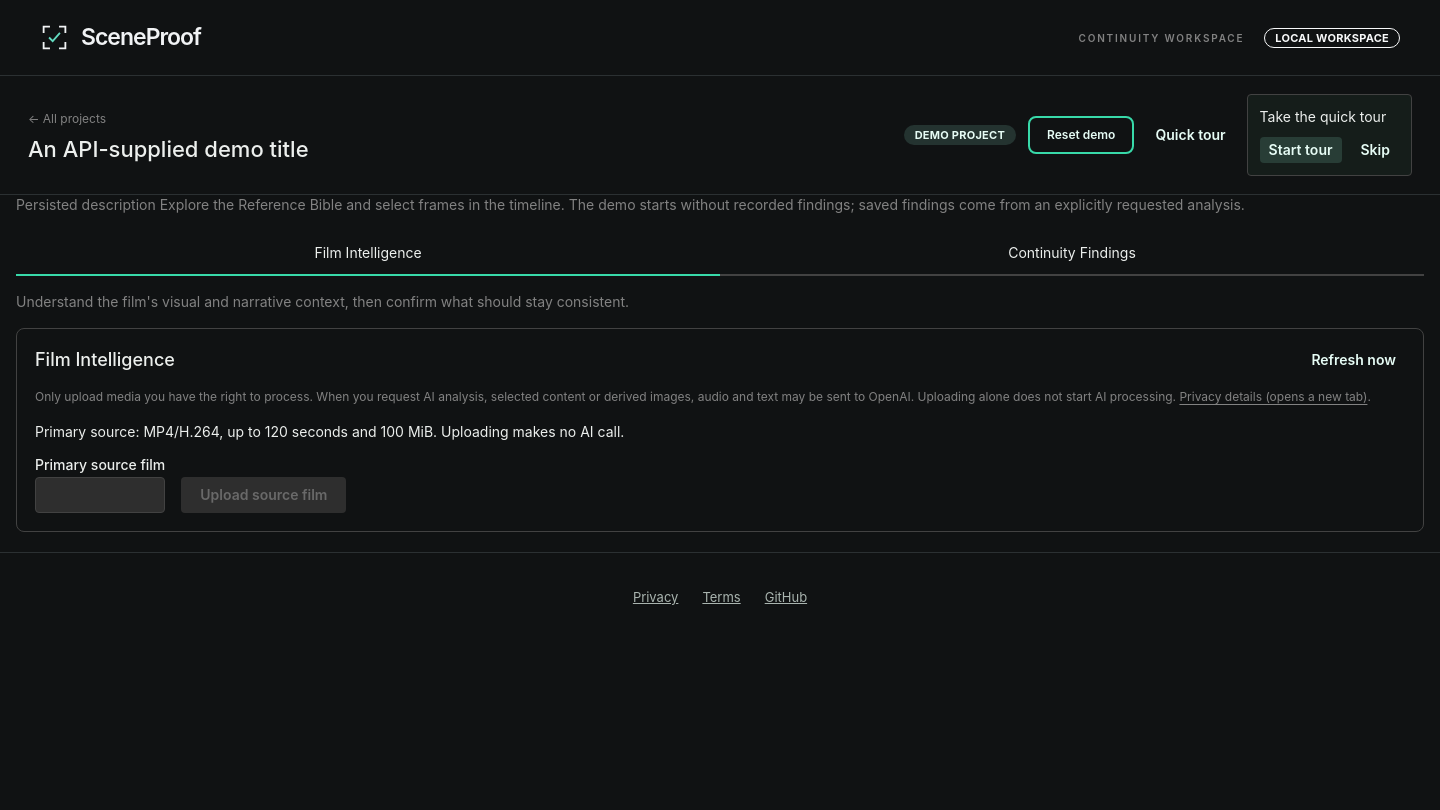
Test: reset requires explicit confirmation and cancel restores keyboard focus
The image size is (1440, 810).
Press Enter
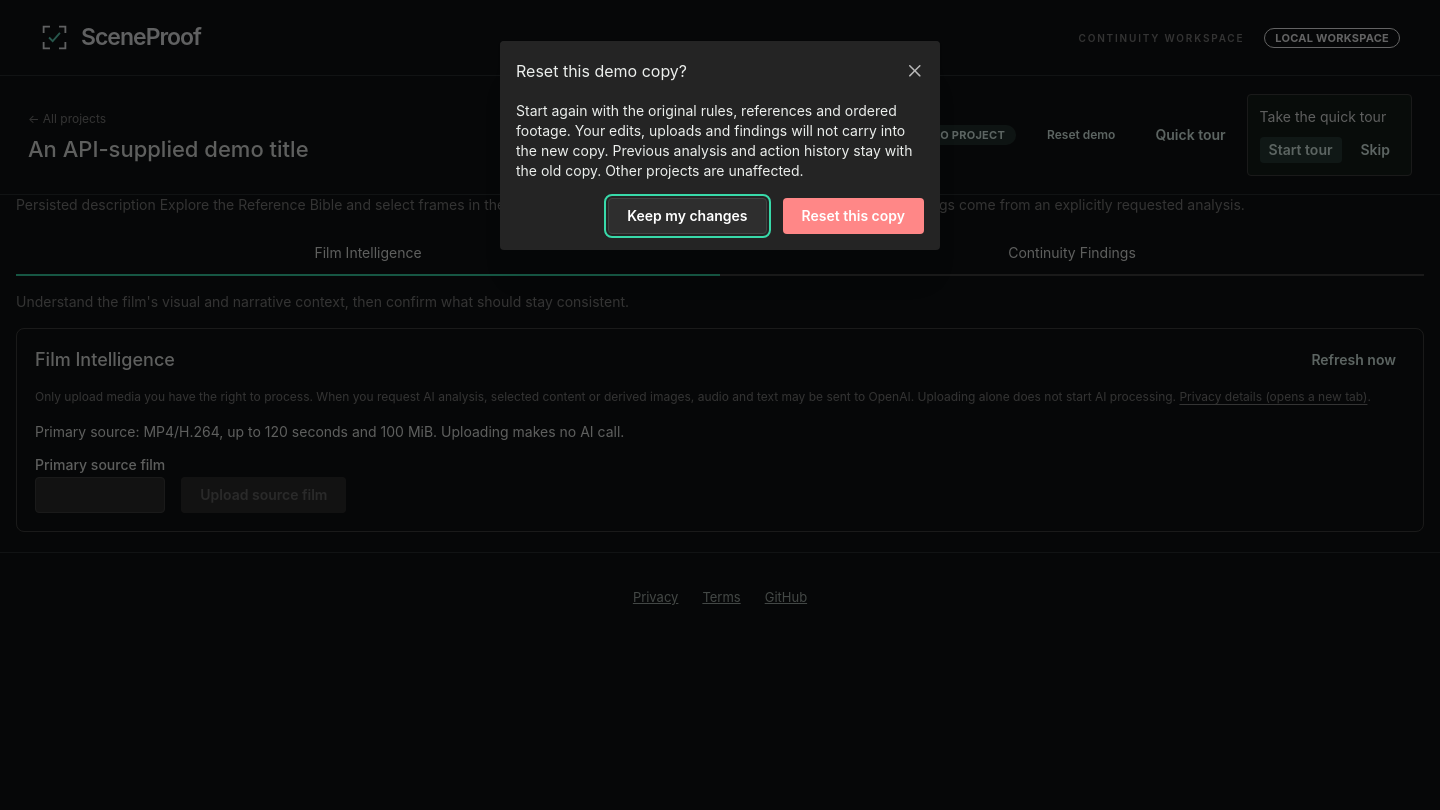
Expected: the dialog shows "Previous analysis and action history stay with the old copy", 516,102 -> 912,179
Click the button "Keep my changes": [687, 216] box 608,198 -> 766,234
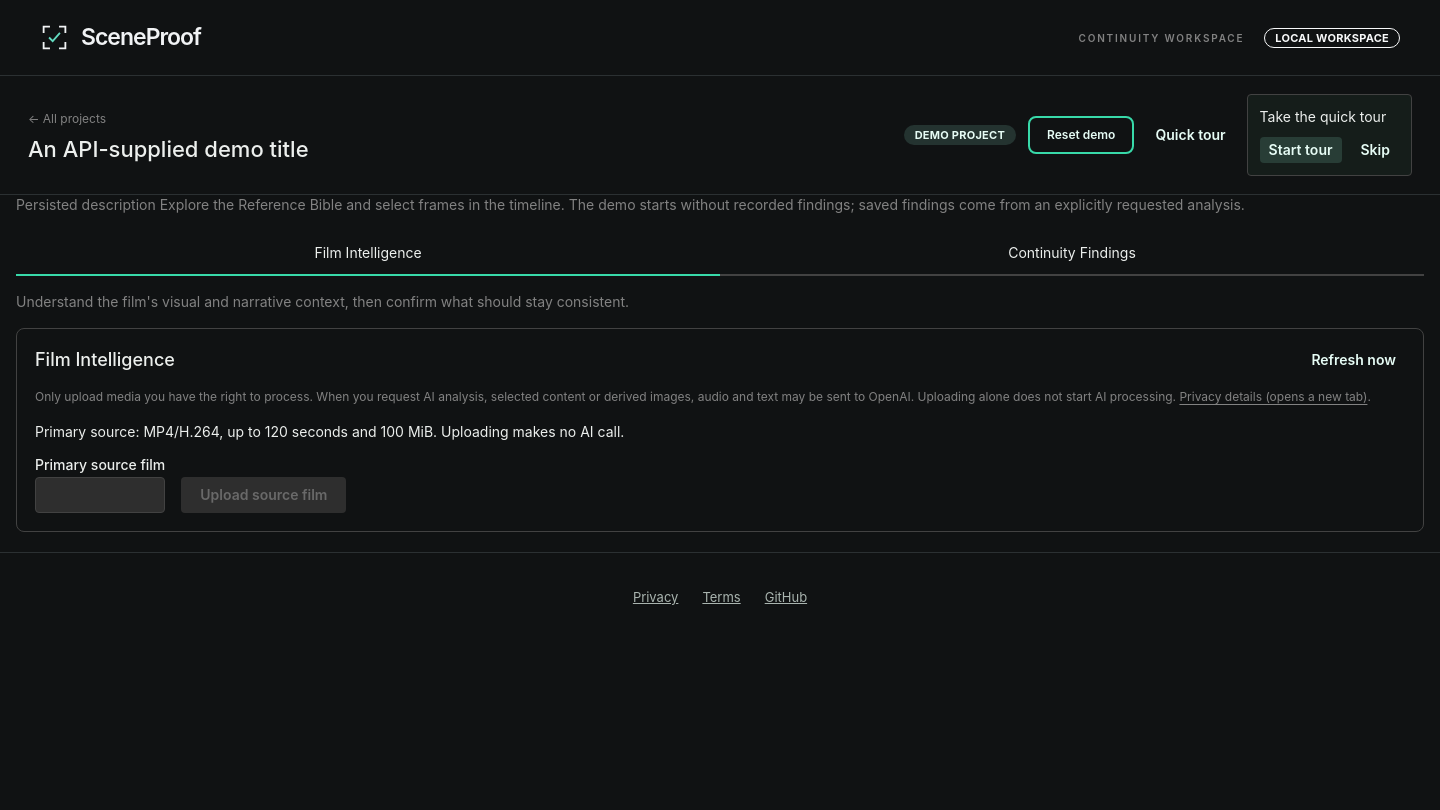
Expected: the dialog is gone
